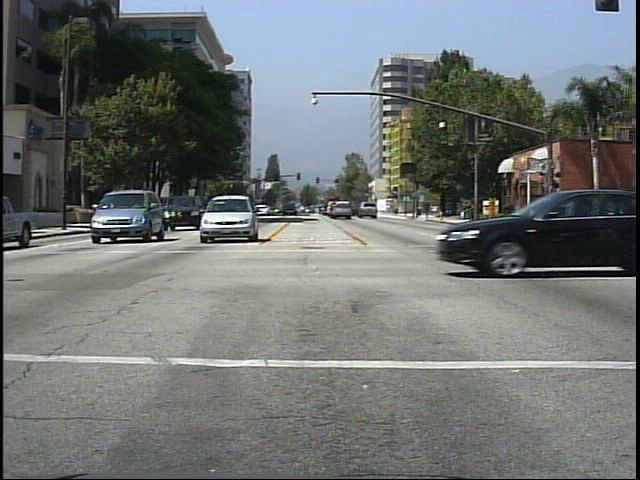person: (564, 192, 590, 243)
